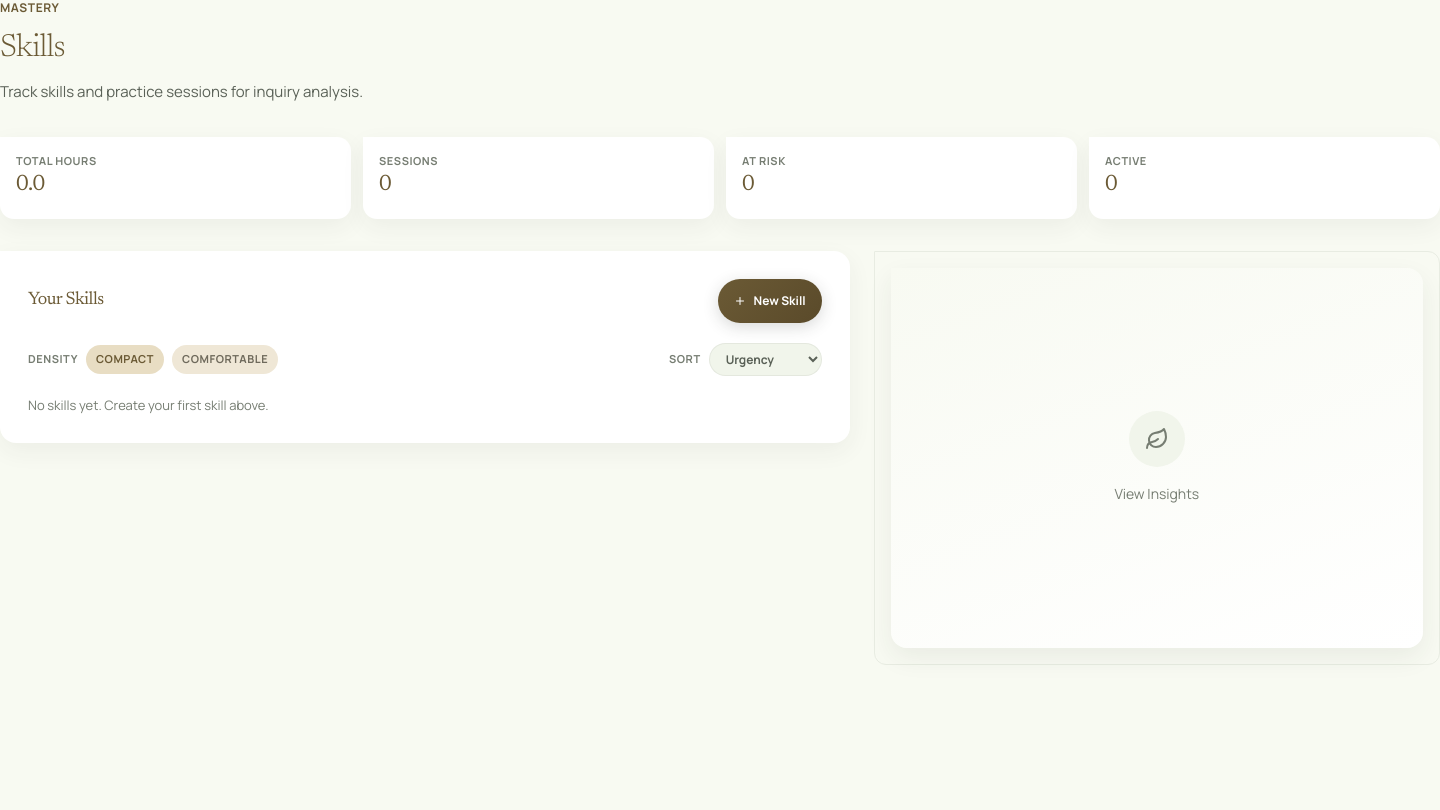
Test: SkillsPage create flow rollout behavior › shows live skill preview while typing in step 1
Click the button "New Skill" at {"x": 770, "y": 301}, box [718,279,822,323]
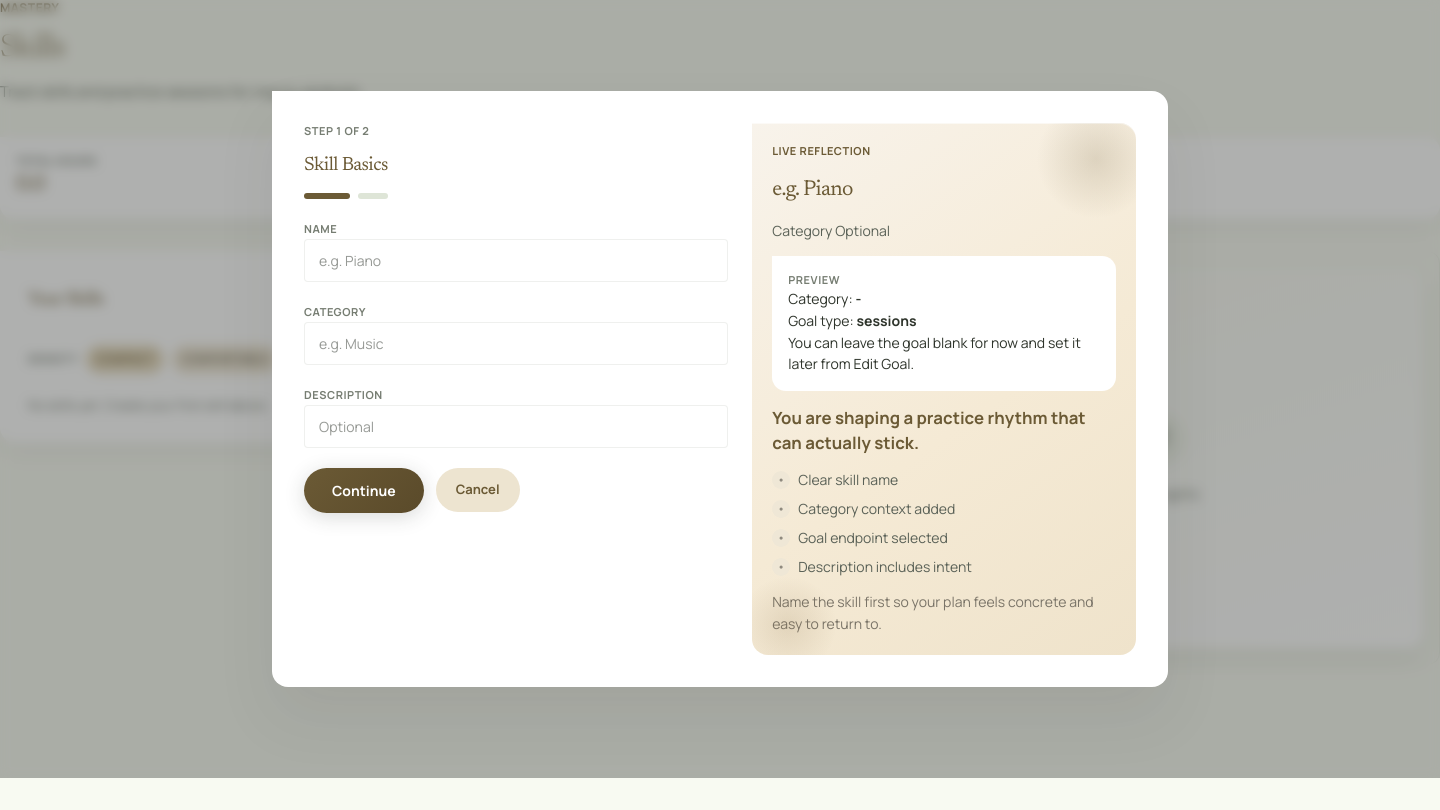
expect the text "Live Reflection" is shown: met, box [772,143,871,158]
Type "Piano" into the field labelled "Name" at {"x": 516, "y": 260}, box [304,238,728,282]
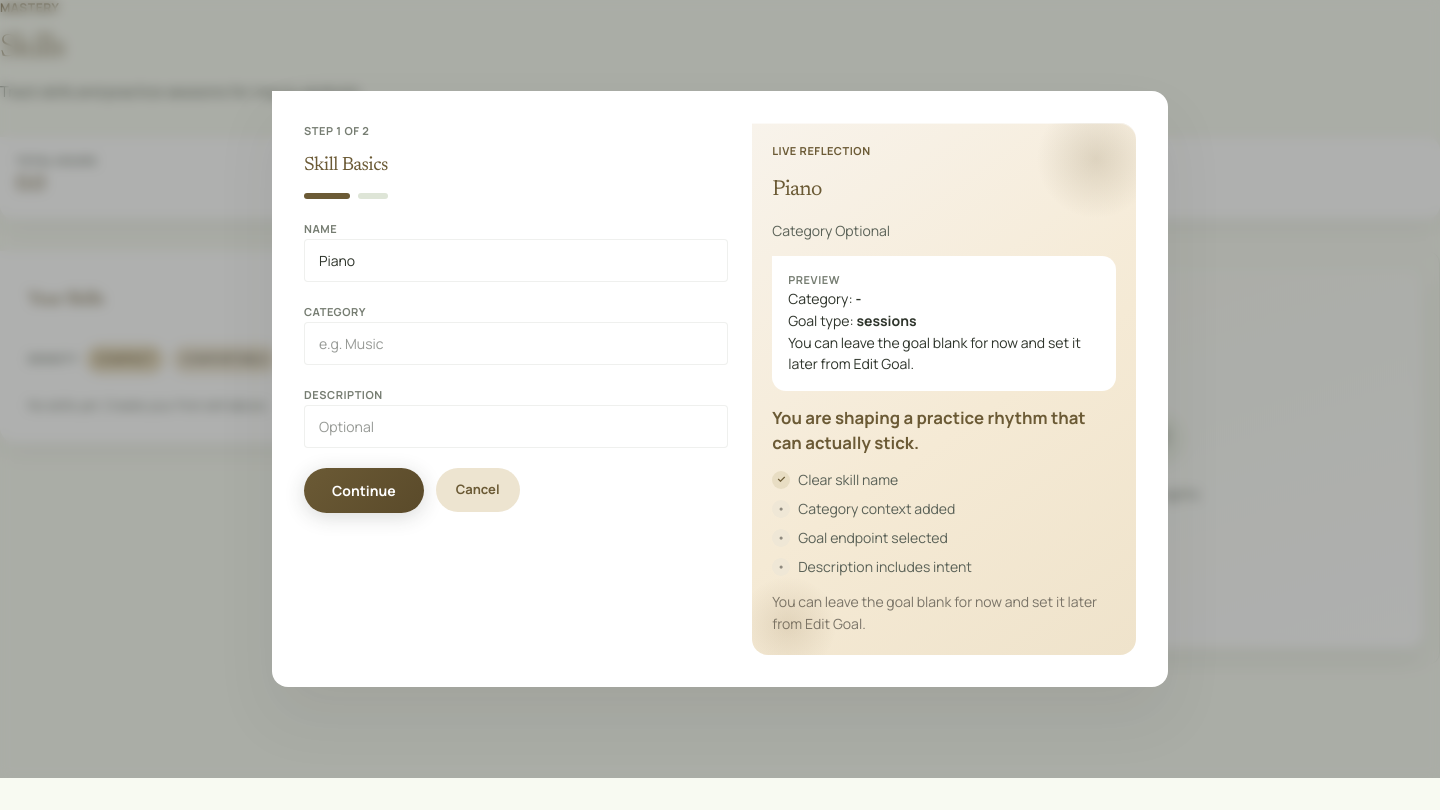
Type "Music" into the field labelled "Category" at {"x": 516, "y": 343}, box [304,322,728,364]
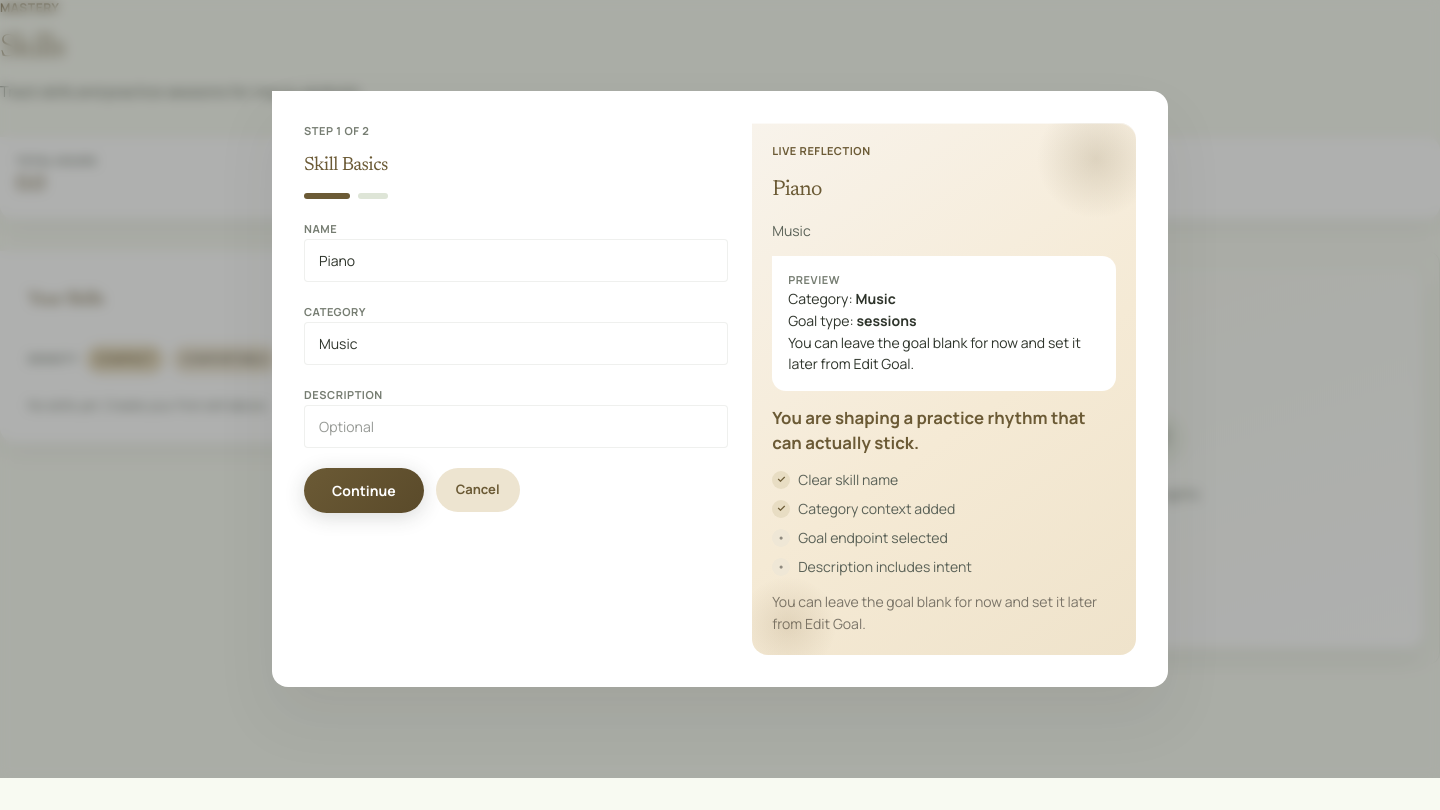
expect the heading "Piano" is shown: met, box [772,179,822,201]
expect the 1st text "Music" is shown: met, box [772,221,811,240]
